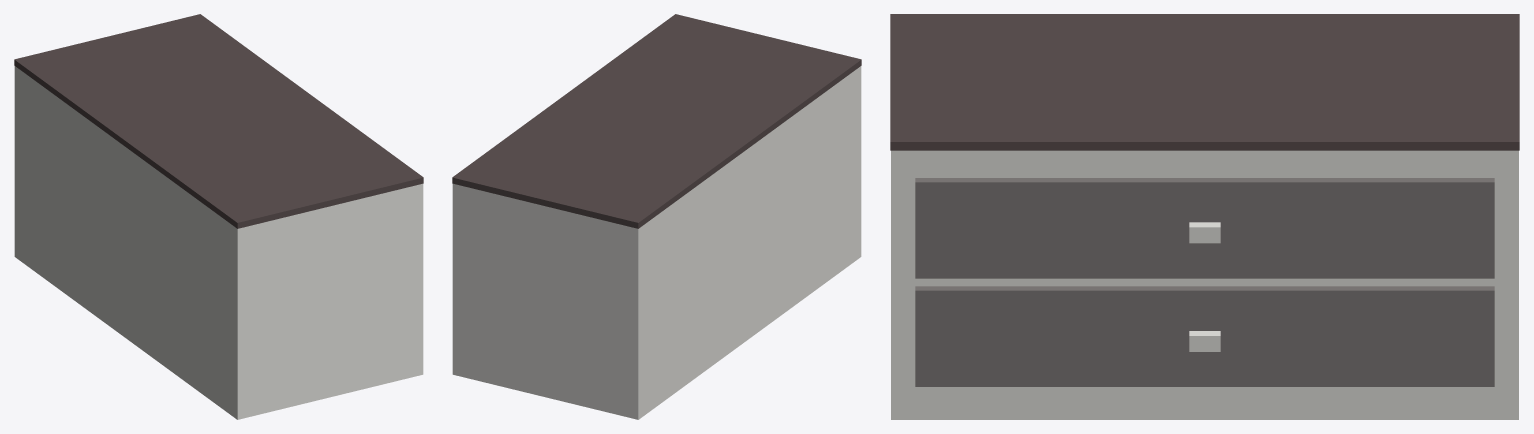
The model's file is kitchen_sideboard3.fbx.
The picture shows the model from 3 angles, left to right: view 1: azimuth 30°, elevation 25°; view 2: azimuth 150°, elevation 25°; view 3: azimuth 270°, elevation 25°; orthographic projection. The views are drawn at different scales.
Parts seen in each view (by area): view 1: kitchen_sideboard3; view 2: kitchen_sideboard3; view 3: kitchen_sideboard3.
Part boxes in pixels (bbox=[...]): kitchen_sideboard3: bbox=[14, 14, 423, 419]; kitchen_sideboard3: bbox=[452, 14, 861, 419]; kitchen_sideboard3: bbox=[890, 14, 1519, 419].
Size of the model in its own units: 200 by 103 by 97.31.
